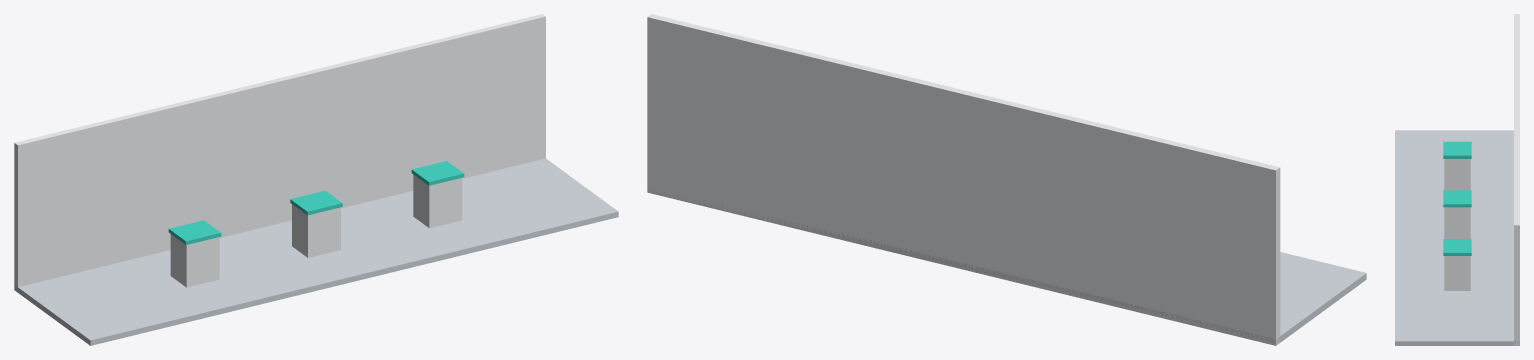
3 renders of one model, left to right at view 1: azimuth 30°, elevation 25°; view 2: azimuth 150°, elevation 25°; view 3: azimuth 270°, elevation 25°, orthographic. The views are drawn at different scales.
Parts seen in each view (by area): view 1: Exhibition Booth Concept; view 2: Exhibition Booth Concept; view 3: Exhibition Booth Concept.
Boxes of the visible parts, left/top/right/bottom form: Exhibition Booth Concept: left=14, top=14, right=618, bottom=345; Exhibition Booth Concept: left=647, top=14, right=1366, bottom=345; Exhibition Booth Concept: left=1395, top=14, right=1519, bottom=345.
Size of the model in its own units: 12 by 3.2 by 3.
